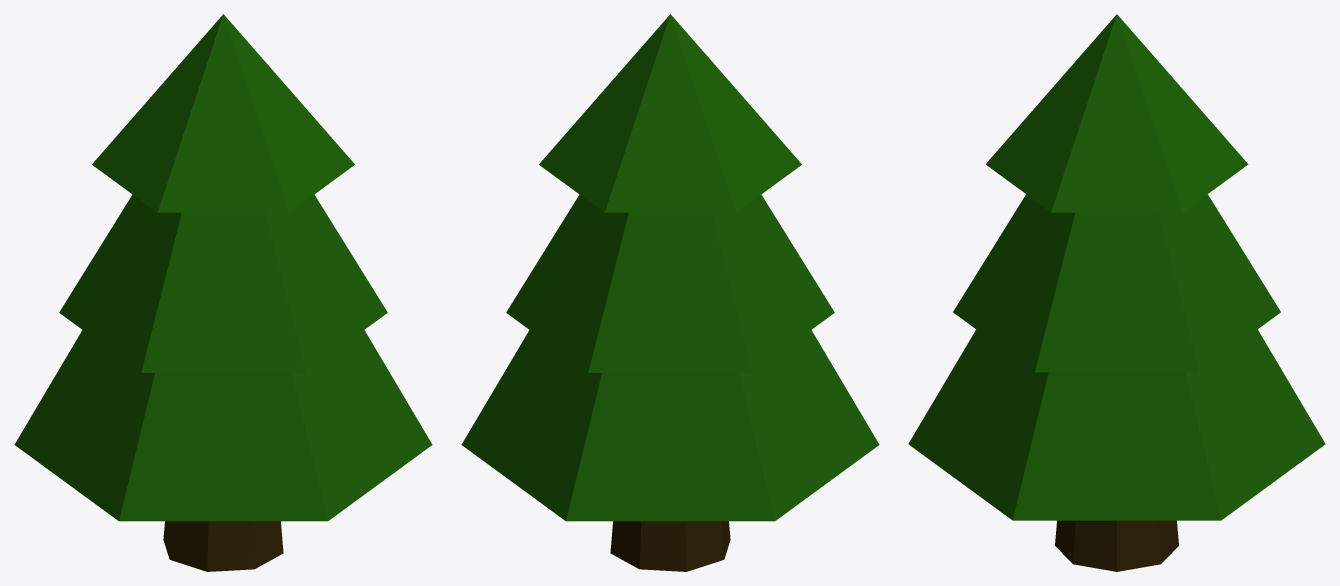
File: christmasTree.fbx
3 renders of one model, left to right at view 1: azimuth 30°, elevation 25°; view 2: azimuth 150°, elevation 25°; view 3: azimuth 270°, elevation 25°, orthographic.
Visible parts, largest first — view 1: Tree, Stick; view 2: Tree, Stick; view 3: Tree, Stick.
Part boxes in pixels (x1,y1,x2,y2): Tree: [14, 14, 432, 521]; Stick: [163, 521, 283, 571]; Tree: [461, 14, 879, 521]; Stick: [610, 521, 730, 571]; Tree: [908, 14, 1325, 520]; Stick: [1055, 520, 1178, 571].
Bounding box in the file's own units: 582 × 945 × 672.
